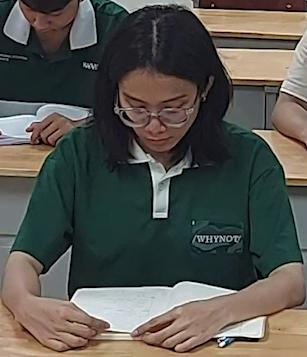Reading: (2, 2, 307, 351)
